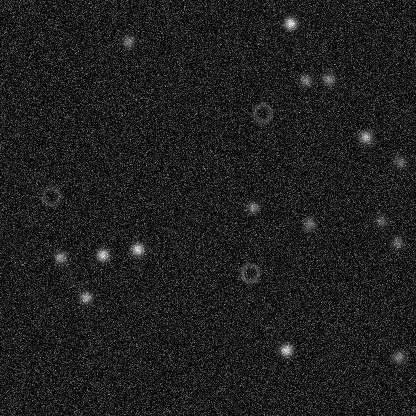Ring: (38, 184, 62, 208), (250, 101, 274, 125), (238, 261, 262, 285)
Spot: (94, 246, 110, 262), (357, 129, 373, 145), (77, 289, 93, 305), (282, 15, 298, 31), (390, 349, 406, 365), (389, 234, 405, 250), (52, 249, 68, 265), (278, 341, 294, 357), (391, 153, 407, 169), (120, 33, 136, 49), (301, 215, 317, 231), (297, 72, 313, 88), (129, 241, 145, 257), (373, 212, 389, 228), (320, 70, 336, 86), (244, 199, 260, 215)
